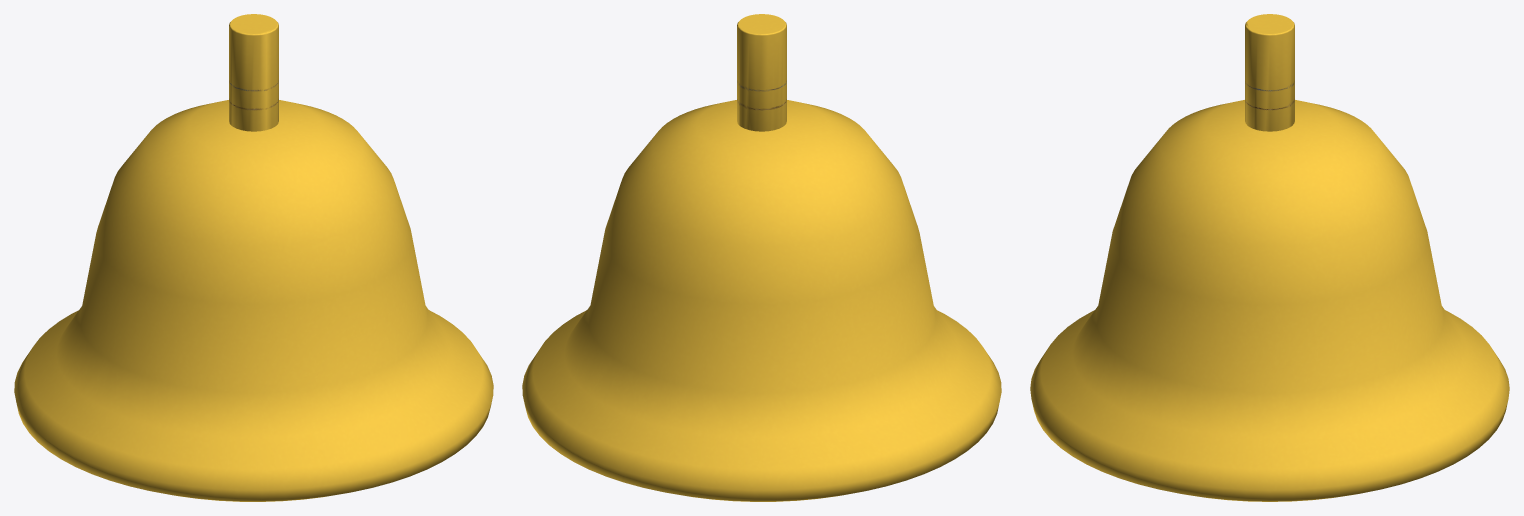
The model's file is 38-bell.fbx.
3 renders of one model, left to right at view 1: azimuth 30°, elevation 25°; view 2: azimuth 150°, elevation 25°; view 3: azimuth 270°, elevation 25°, orthographic.
Parts seen in each view (by area): view 1: bell; view 2: bell; view 3: bell.
Boxes of the visible parts, box(x1,y1,x2,y2) form: bell: box(14, 14, 493, 501); bell: box(522, 14, 1001, 501); bell: box(1030, 14, 1509, 501).
Size of the model in its own units: 4600 by 4800 by 4600.
Materials: 1 (1 with a texture image).
